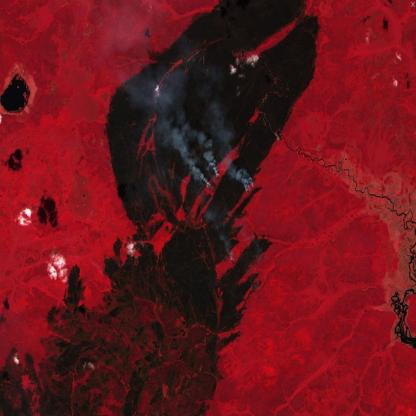fire: (196, 152, 220, 198), (241, 171, 261, 202), (221, 236, 237, 269)
